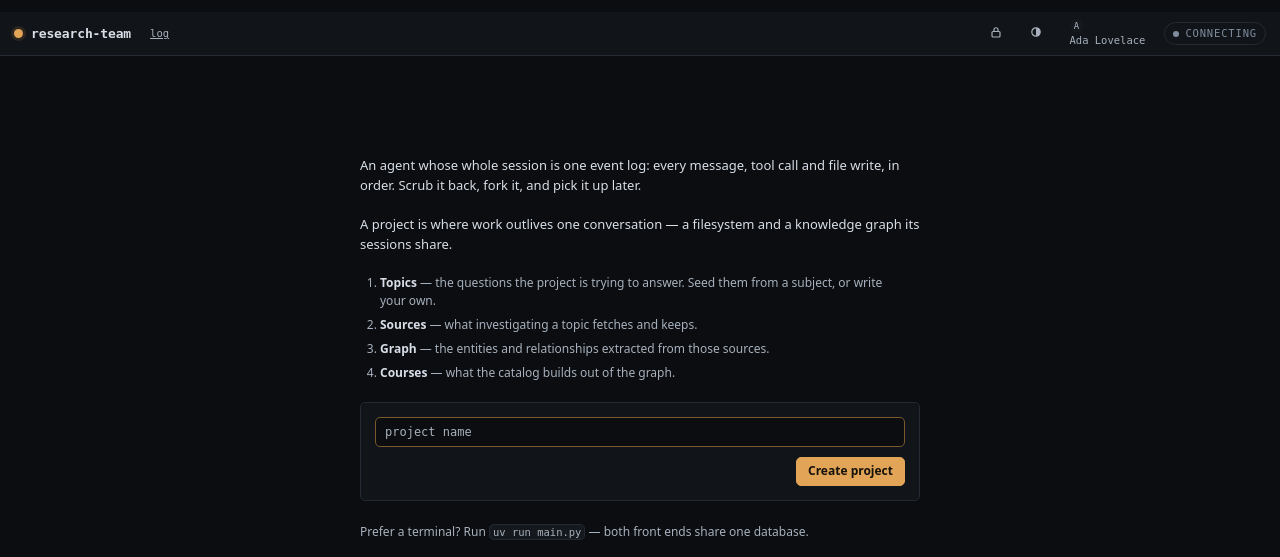
Scenario: shows the signed-in person in the chrome, with a way out
Click the button with aria-label "Signed in as Ada Lovelace".
click(1107, 34)  # box [1060, 15, 1154, 52]
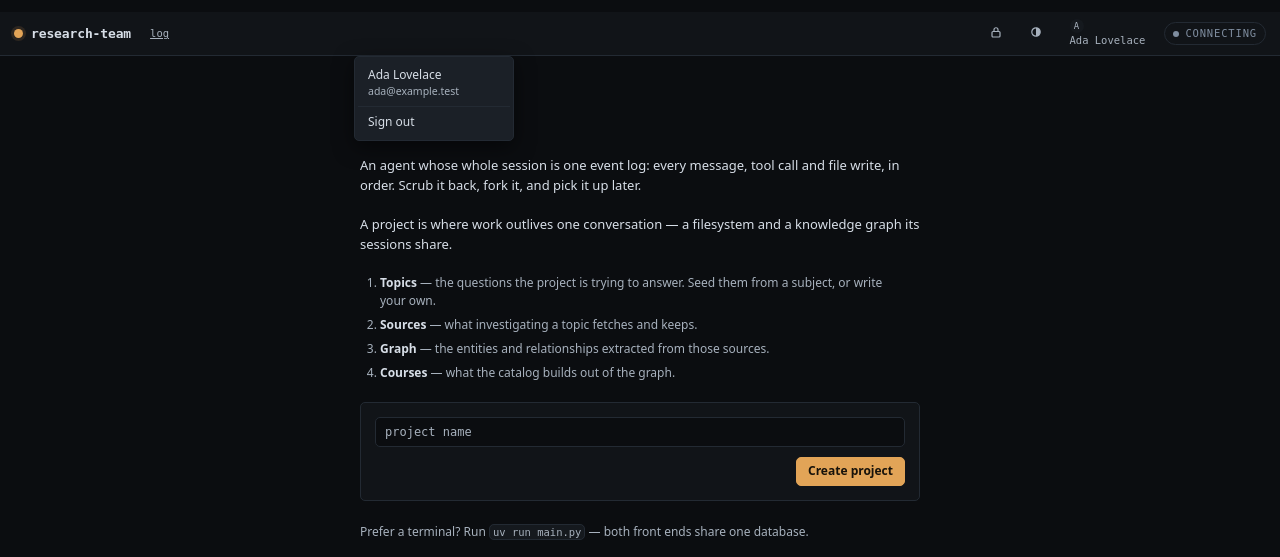
expect the text "ada@example.test" is shown: met, box [368, 84, 459, 98]
expect the menu item "Sign out" is shown: met, box [368, 113, 415, 130]
